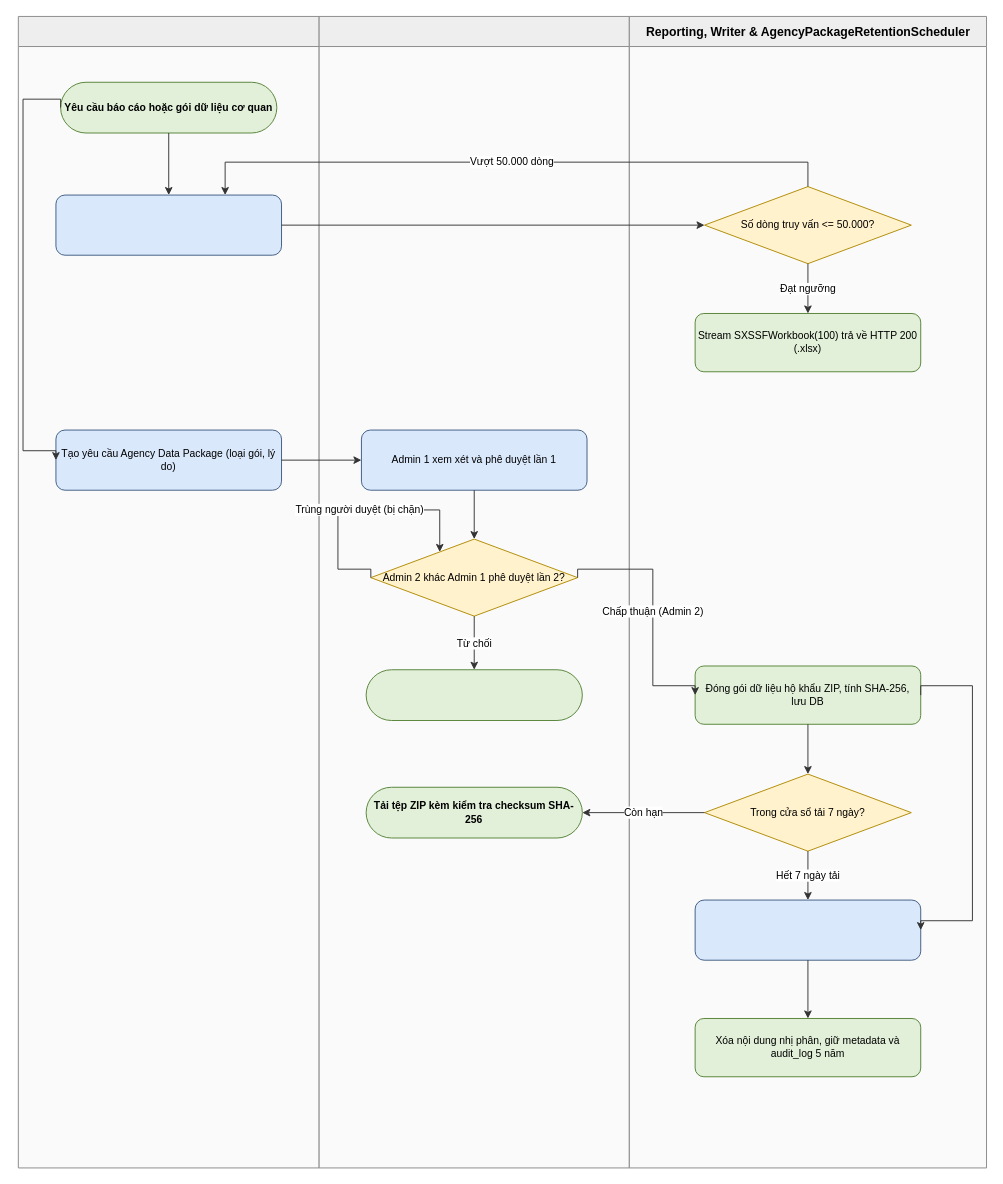
Some shapes in this 1003 by 1184 pixel diagram are drawn without their labels. The shapes that lost their labels are listed below. From the top down, each one's box as (x1, y1, x2, y2) in pixels, then its label:
(55, 194, 282, 255): Tải 1 trong 3 báo cáo XLSX (thu phí, biên lai, cư trú)
(17, 16, 319, 1168): Kế toán / Tổ trưởng
(318, 16, 629, 1168): Admin 1 & Admin 2 (ADMIN)
(365, 669, 582, 721): Từ chối yêu cầu gói dữ liệu
(694, 899, 921, 960): Cơ chế định kỳ mỗi 60 giây kiểm tra hạn lưu trữ 30 ngày
